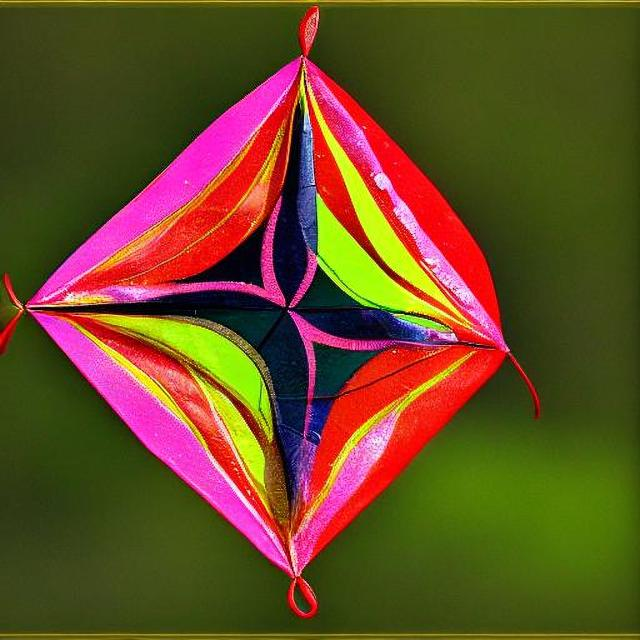floating object: (32, 10, 554, 622)
